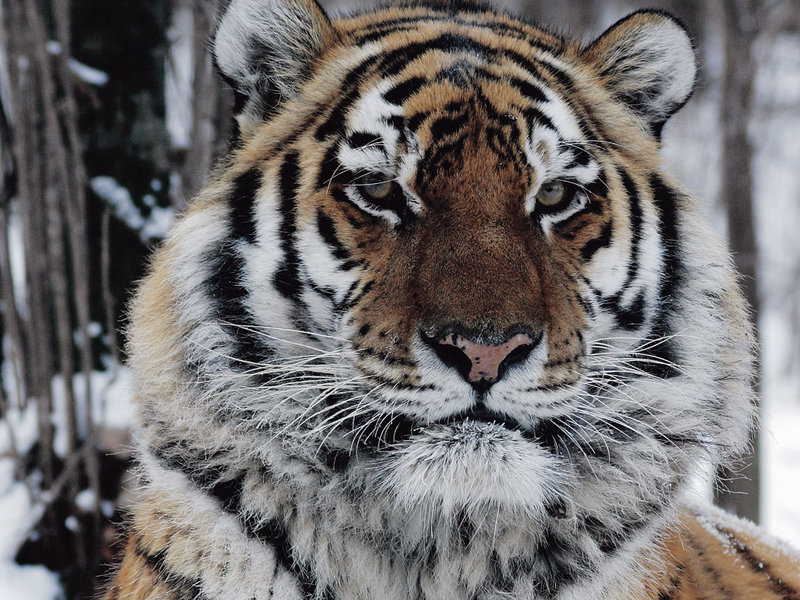Tiger: (115, 6, 800, 568)
